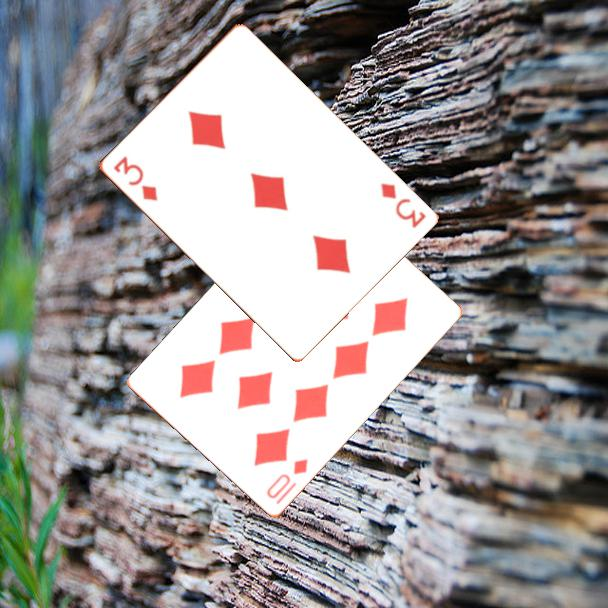d03: (376, 179, 429, 231), (109, 152, 160, 204)
d10: (263, 455, 311, 502)
